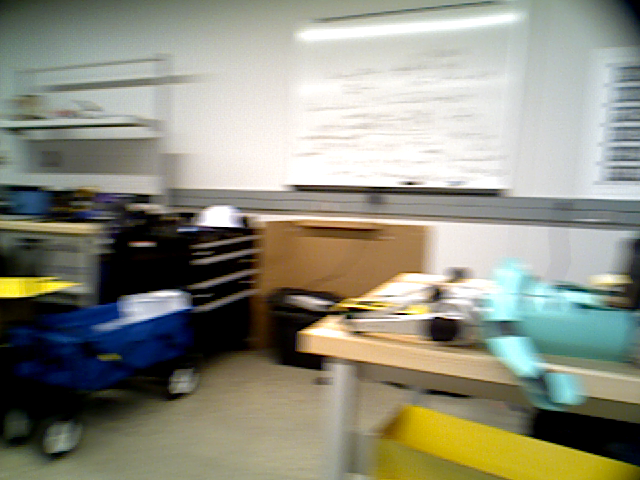painting4: (590, 47, 640, 193)
